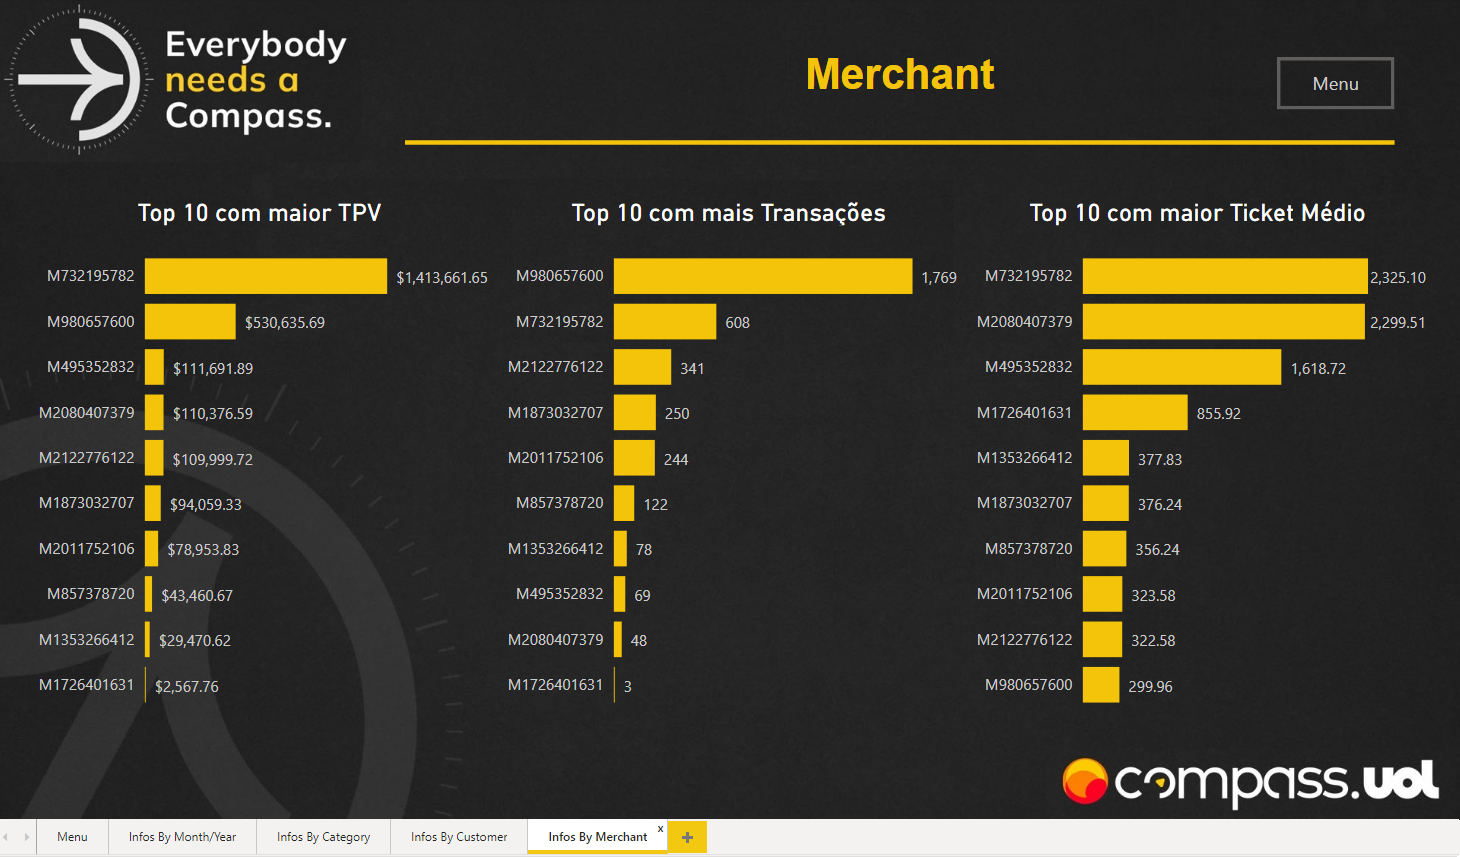

The page's visual inventory and layout, read from the dashboard file:
{"tool":"powerbi","page":{"name":"Infos By Merchant","canvas":[1280,720],"ordinal":4},"visuals":[{"type":"clusteredBarChart","title":"Top 10 com maior Ticket Médio","fields":{"Category":["public fact_merchant_kpi.id_merchant"],"Y":["public fact_merchant_kpi.Ticket Médio M"]},"box":[845.7,175.5,411.4,464.5],"z":0},{"type":"shape","box":[356.4,51.9,867.5,150],"z":1000},{"type":"textbox","box":[356.4,41.6,867.5,70.6],"z":2000},{"type":"clusteredBarChart","title":"Top 10 com mais Transações","fields":{"Category":["public fact_merchant_kpi.id_merchant"],"Y":["Sum(public fact_merchant_kpi.qtd_transacoes)"]},"box":[434.3,175.5,411.4,464.5],"z":3000},{"type":"clusteredBarChart","title":"Top 10 com maior TPV","fields":{"Category":["public fact_merchant_kpi.id_merchant"],"Y":["Sum(public fact_merchant_kpi.tpv)"]},"box":[22.9,175.5,411.4,464.5],"z":4000},{"type":"actionButton","title":"Menu","box":[1120.9,52.1,103.3,45.7],"z":5000}]}

Visuals, with their boxes on the page's 1280x720 design canvas (x1, y1, x2, y2). These are canvas units, not pixel positions in the 1460x857 screenshot, which may show the page scaled, cropped or inside an application window:
"Top 10 com maior Ticket Médio" clusteredBarChart: (left=846, top=176, right=1257, bottom=640)
shape: (left=356, top=52, right=1224, bottom=202)
textbox: (left=356, top=42, right=1224, bottom=112)
"Top 10 com mais Transações" clusteredBarChart: (left=434, top=176, right=846, bottom=640)
"Top 10 com maior TPV" clusteredBarChart: (left=23, top=176, right=434, bottom=640)
"Menu" actionButton: (left=1121, top=52, right=1224, bottom=98)
